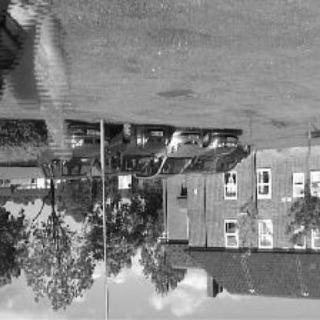other: (6, 4, 78, 156)
